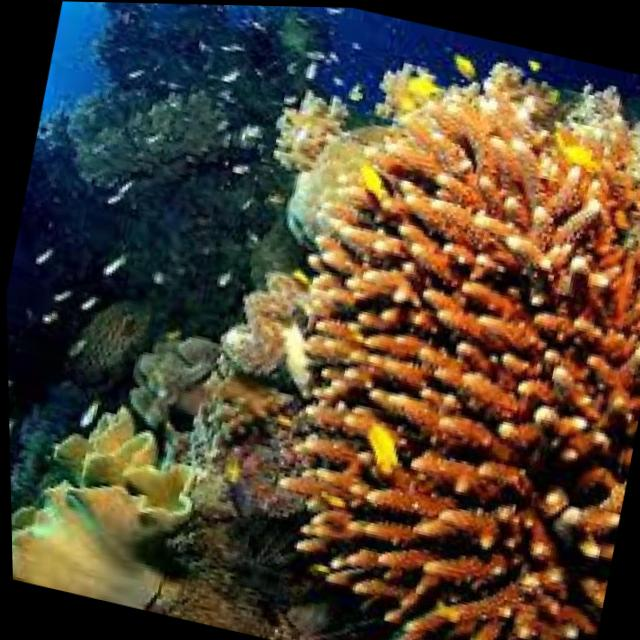Healthy Coral: (202, 70, 640, 640), (7, 387, 204, 614)
